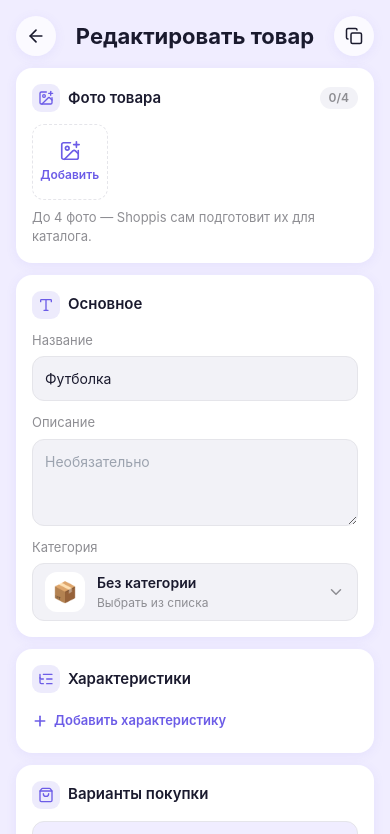
Test case: EditProductView — копирование существующего товара (docs/23 §3.2, §7.3) › изменения копии не влияют на исходную карточку
Click the button named "Создать копию". click: (354, 36)
box: [334,16,374,56]
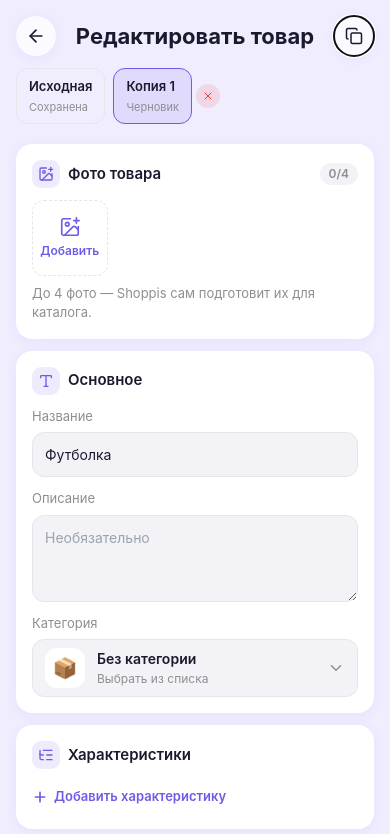
Replace the text in the field with placeholder "Например, Морковь" with "Копия". click: (195, 454)
box: [32,432,358,477]
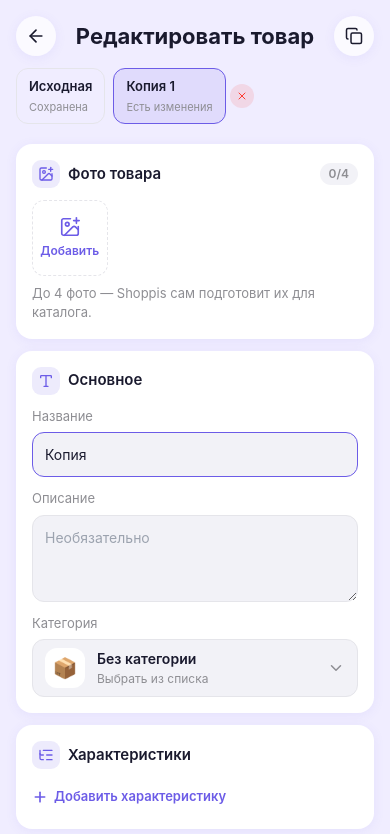
Click the tab "Исходная Сохранена". click: (61, 96)
box: [16,68,105,124]
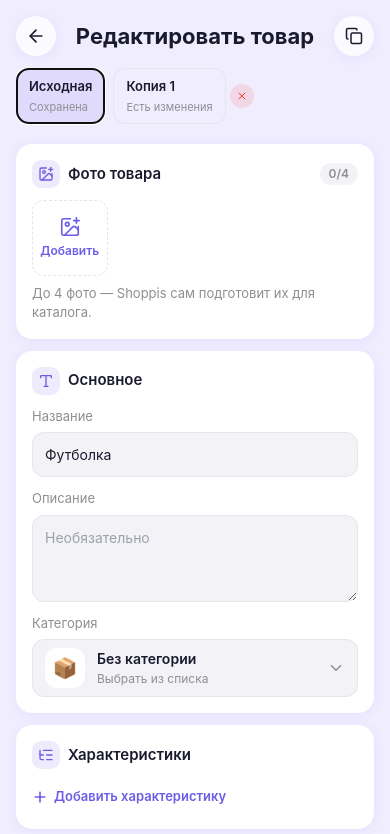
expect the field with placeholder "Например, Морковь" holds "Футболка": met, box [32,432,358,477]
Click the tab "Копия 1 Есть изменения". click: (170, 96)
box: [113,68,226,124]
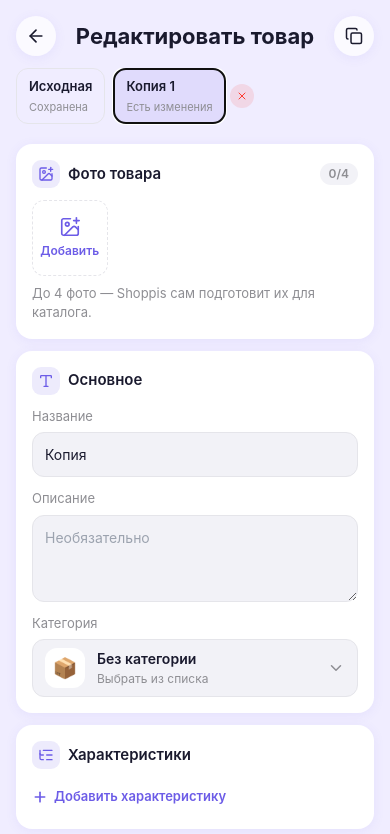
expect the field with placeholder "Например, Морковь" holds "Копия": met, box [32,432,358,477]
